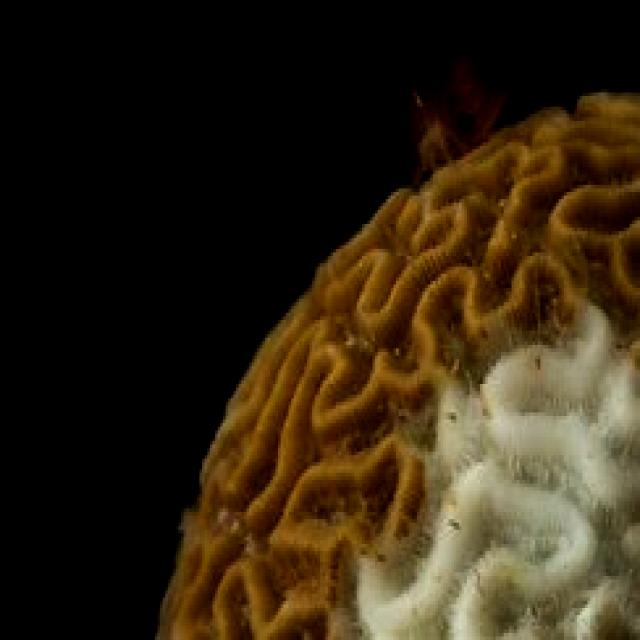Coral: (152, 85, 640, 640)
